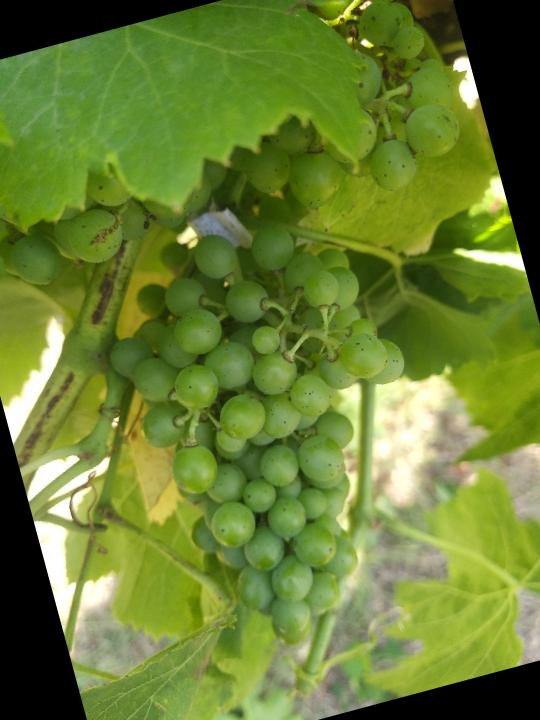grape: (85, 188, 474, 677)
